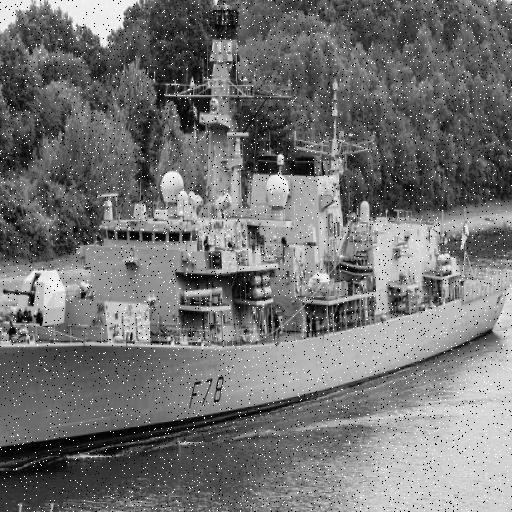Fragata: (1, 1, 512, 486)
